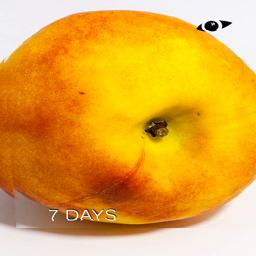Peach Fresh: (0, 9, 256, 228)
